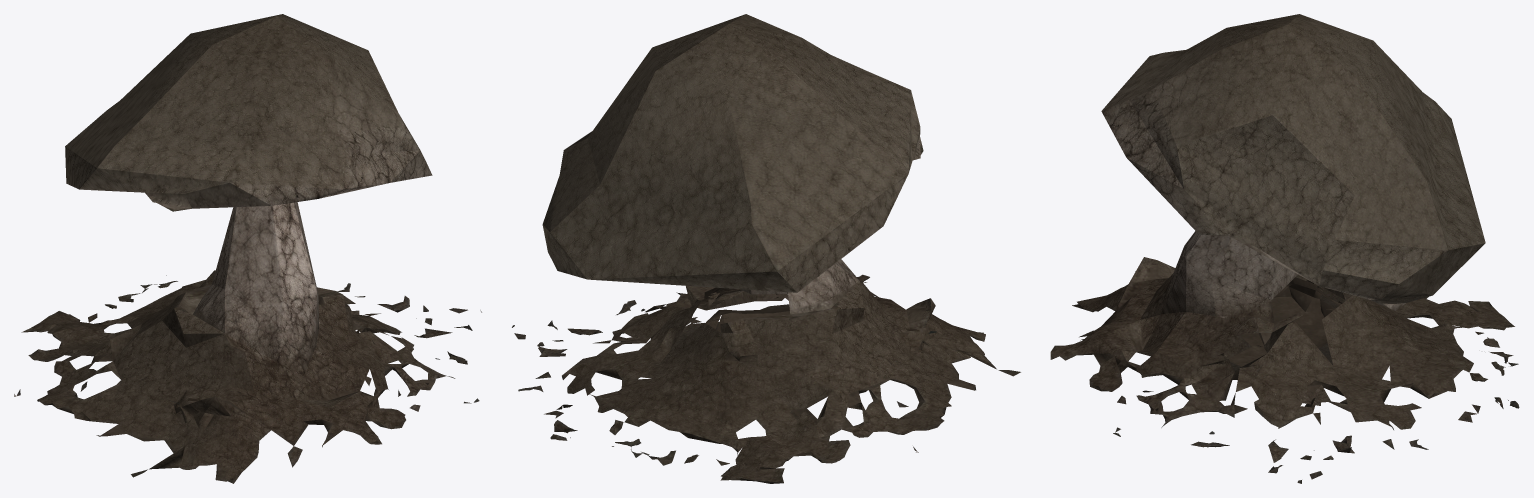
Rendered from m14-blightcap.glb.
The picture shows the model from 3 angles, left to right: view 1: azimuth 30°, elevation 25°; view 2: azimuth 150°, elevation 25°; view 3: azimuth 270°, elevation 25°; orthographic projection.
Bounding box in the file's own units: 1.69 × 1.3 × 1.55.
Materials: 1 (1 with a texture image).
